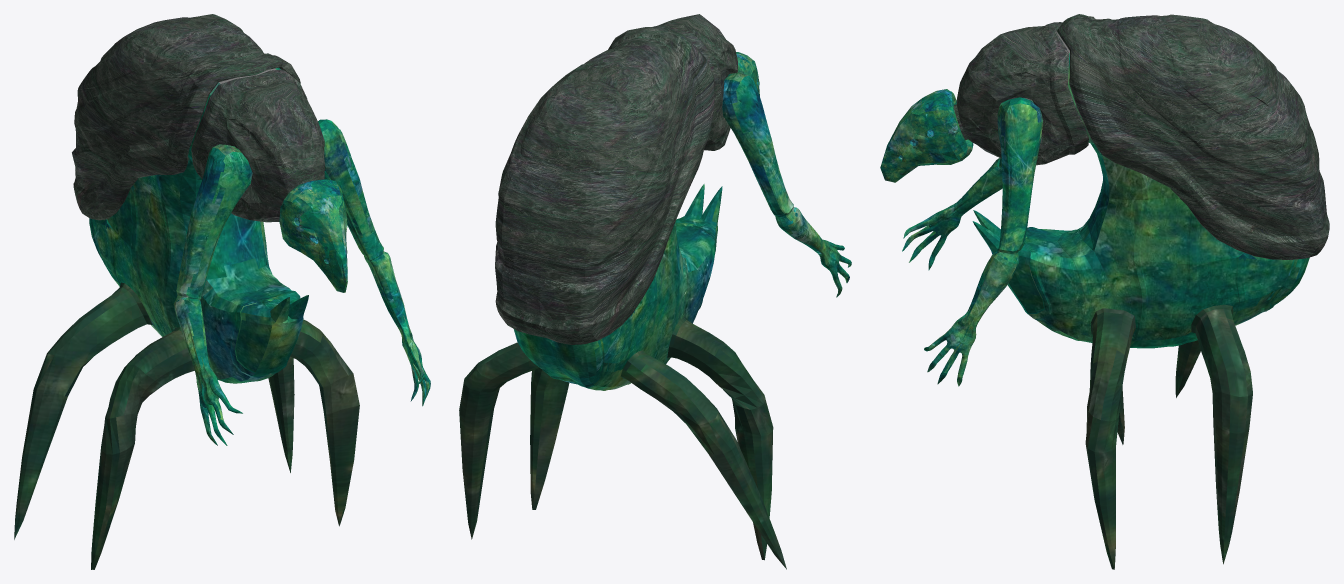
Rendered from Andar.0016.obj.
The picture shows the model from 3 angles, left to right: view 1: azimuth 30°, elevation 25°; view 2: azimuth 150°, elevation 25°; view 3: azimuth 270°, elevation 25°; orthographic projection. The views are drawn at different scales.
Bounding box in the file's own units: 2.48 × 3.93 × 3.24.
Materials: 5 (4 with a texture image).
